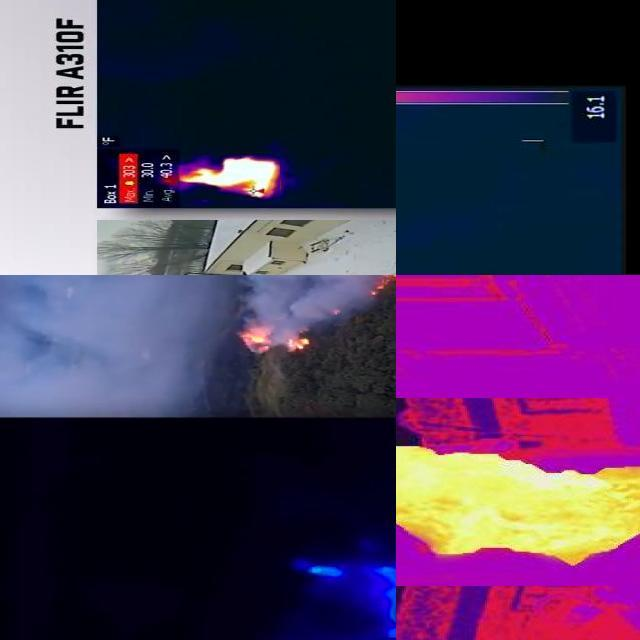fire: (397, 448, 640, 566), (178, 156, 280, 201)
